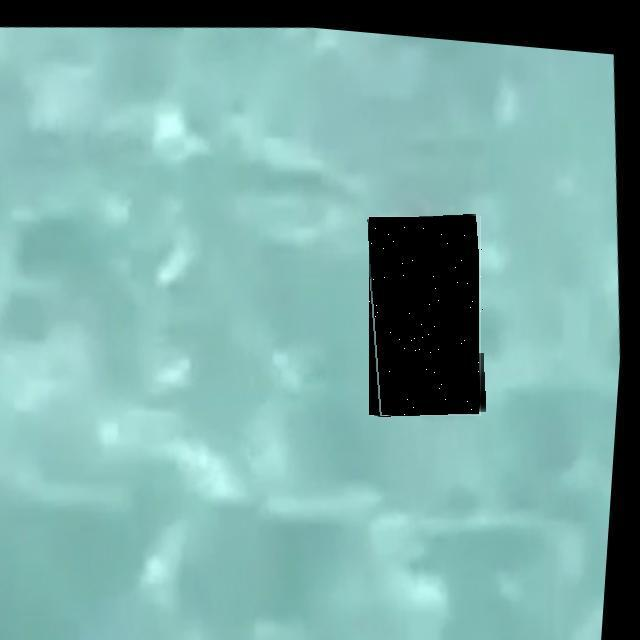swimming: (369, 216, 484, 416)
